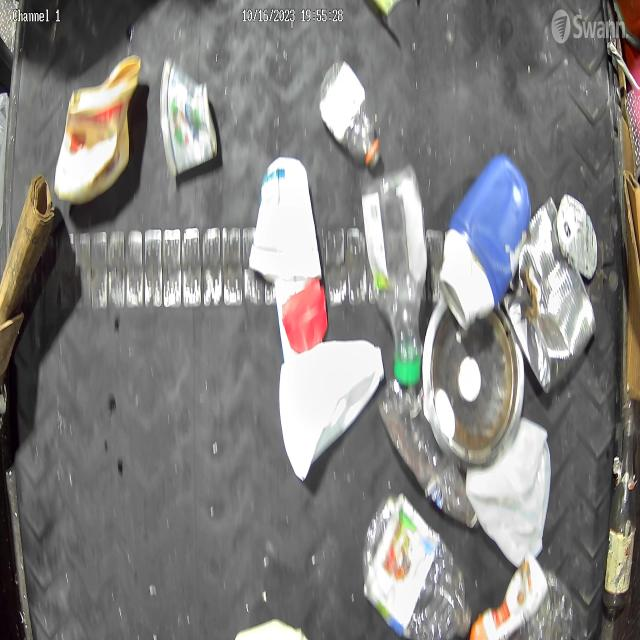can: (502, 199, 597, 398)
milk_jug: (277, 331, 382, 488), (468, 417, 549, 568)
non_white_jug: (439, 147, 531, 329), (55, 49, 140, 214)
plastic_bottle: (362, 492, 468, 640), (380, 369, 470, 527), (318, 60, 384, 176)
